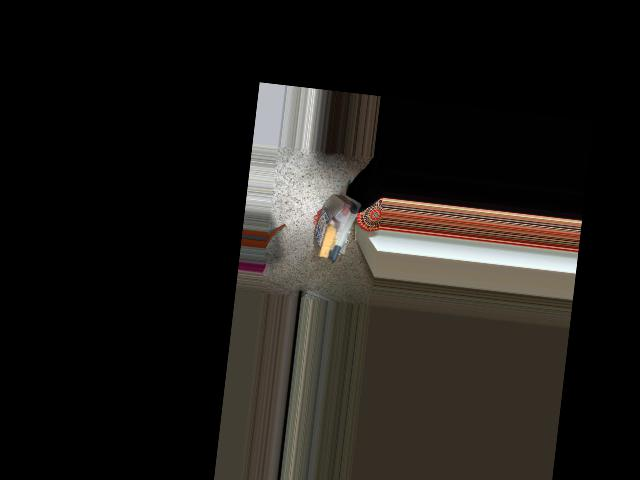cheese: (310, 192, 367, 267)
